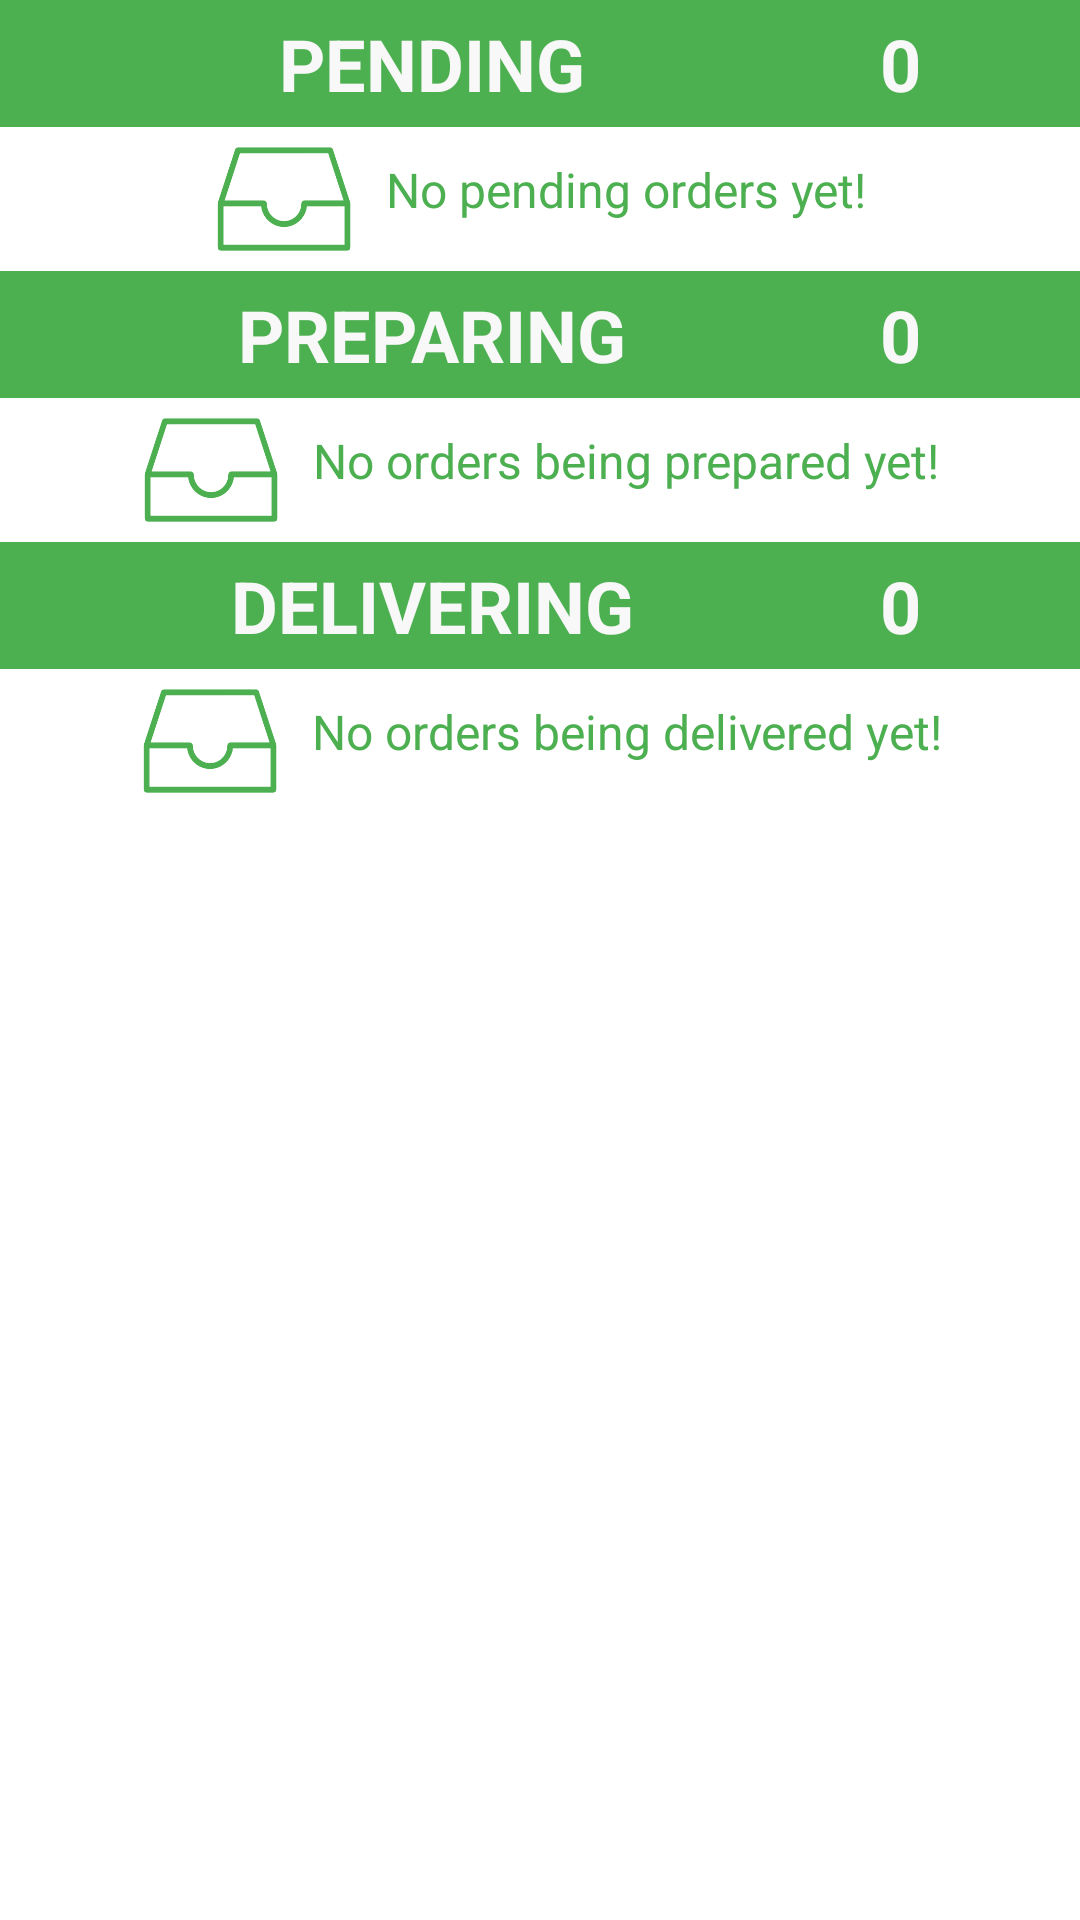

Point at icon controls on the screen. Image size 1080px x 1920px, points as (x,y).
empty: (284,199), (211,470), (210,741)
